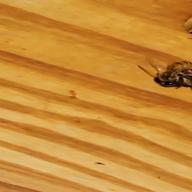Bee: (142, 54, 192, 90)
